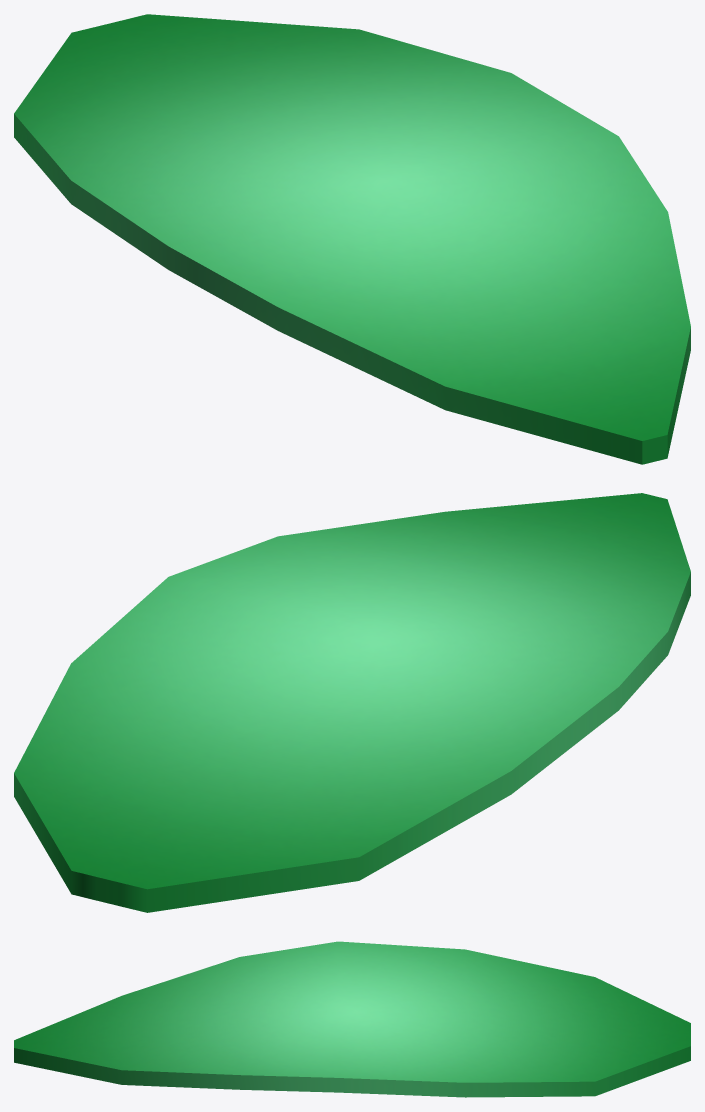
File: Test_Leaf_01.fbx
3 views of the same model, one above another, from view 1: azimuth 30°, elevation 25°; view 2: azimuth 150°, elevation 25°; view 3: azimuth 270°, elevation 25° (orthographic). The views are drawn at different scales.
Parts seen in each view (by area): view 1: Leaf_01; view 2: Leaf_01; view 3: Leaf_01.
Boxes of the visible parts, x1,y1,x2,y2 form: Leaf_01: (14, 14, 690, 464); Leaf_01: (14, 493, 690, 912); Leaf_01: (14, 941, 690, 1097).
Bounding box in the file's own units: 3.38 × 0.5668 × 7.08.
Materials: 1 (1 with a texture image).
